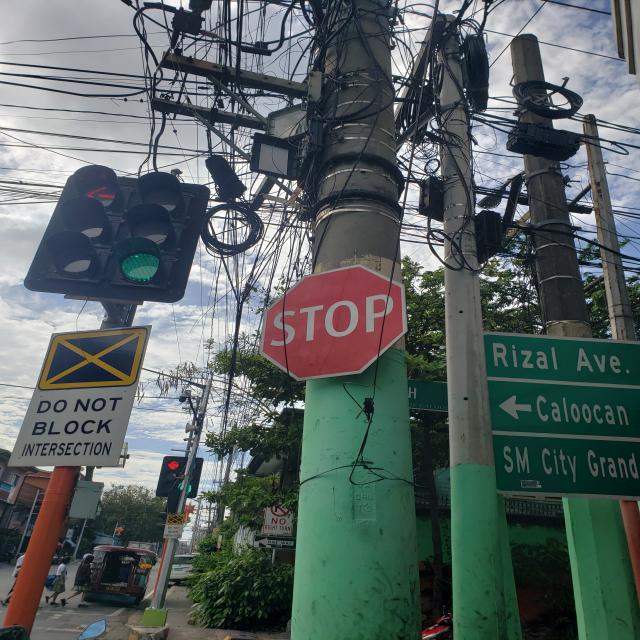stop-sign: (259, 264, 408, 382)
